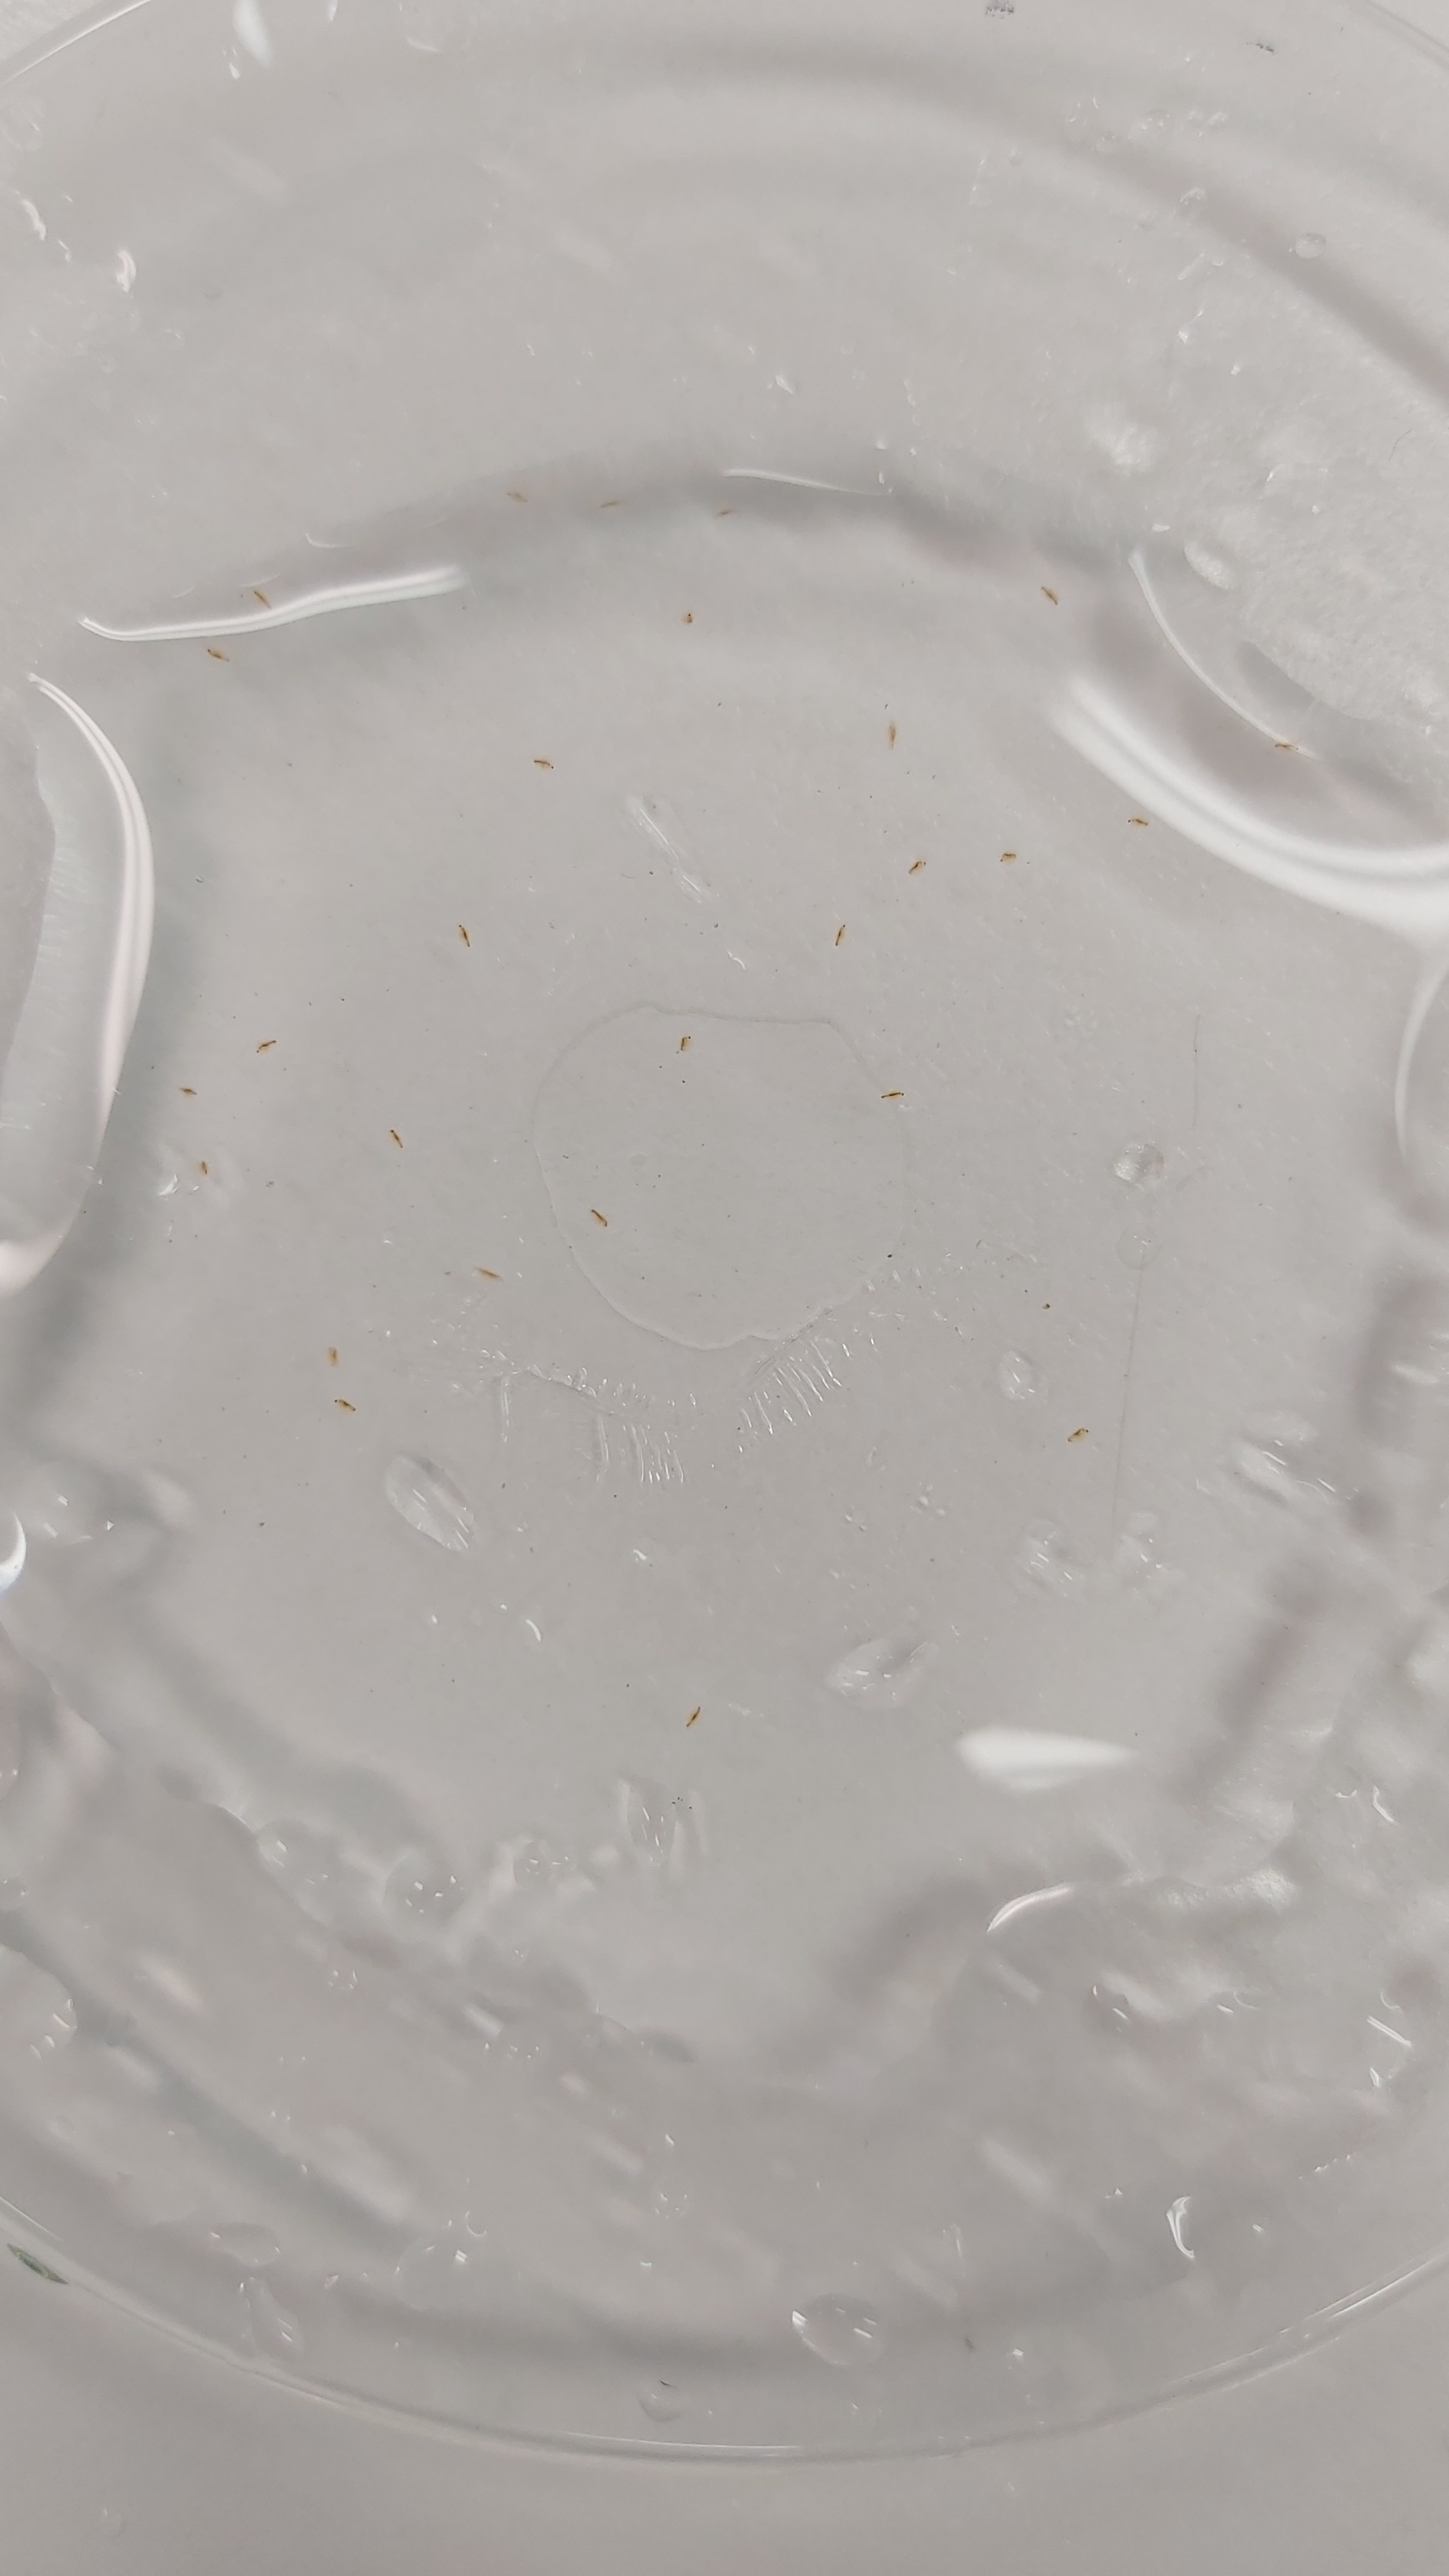D.magna: (251, 586, 274, 610), (472, 1265, 502, 1283), (456, 920, 474, 950), (683, 1706, 704, 1730), (1040, 582, 1062, 607), (331, 1396, 357, 1415), (1065, 1426, 1092, 1445), (253, 1035, 276, 1056), (387, 1127, 407, 1152), (324, 1341, 341, 1368), (205, 646, 232, 663), (886, 718, 901, 750), (589, 1207, 609, 1230), (531, 755, 556, 773), (501, 488, 531, 502), (906, 860, 929, 878), (879, 1088, 904, 1104), (179, 1083, 198, 1102), (678, 1033, 695, 1054), (195, 1161, 214, 1178), (679, 610, 699, 628), (835, 924, 849, 947), (1272, 741, 1297, 754), (998, 851, 1019, 865), (600, 497, 623, 510), (1127, 817, 1150, 830)
